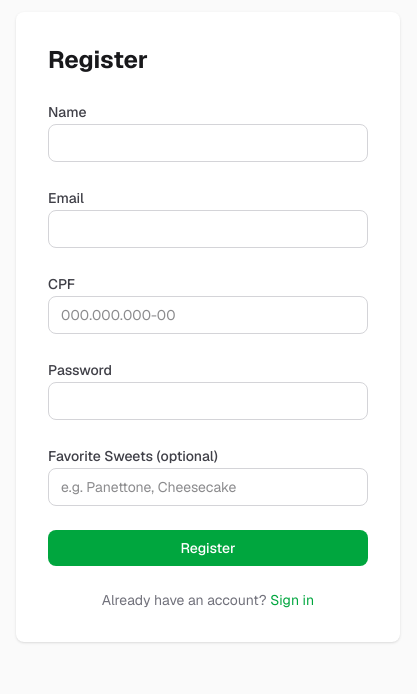
Test: RegisterPage › shows API error on failed registration
Type "John Doe" into the field labelled "Name" at {"x": 208, "y": 143}, box left=48, top=124, right=368, bottom=162
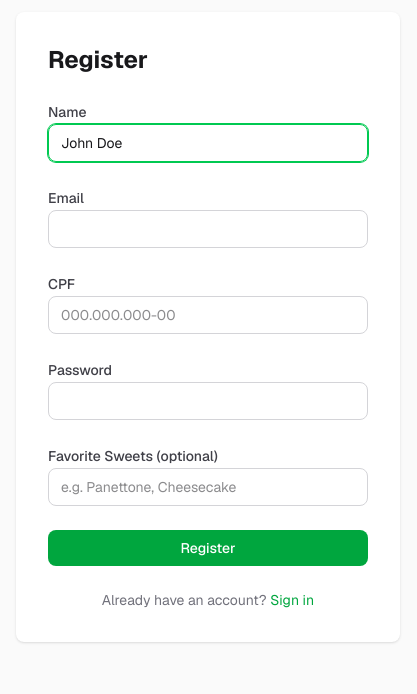
Type "john@test.com" into the field labelled "Email" at {"x": 208, "y": 229}, box left=48, top=210, right=368, bottom=248
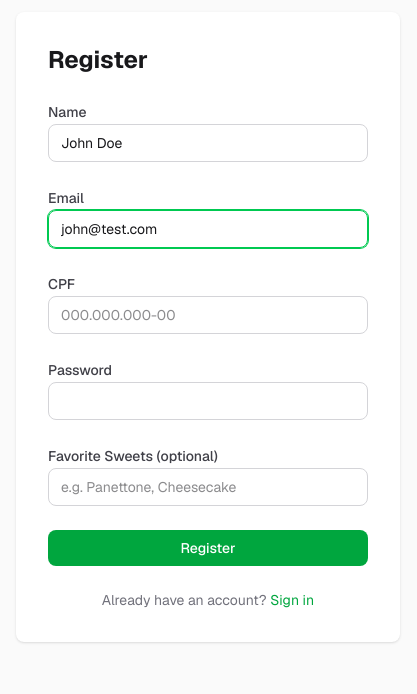
Type "52998224725" into the field labelled "CPF" at {"x": 208, "y": 315}, box left=48, top=296, right=368, bottom=334
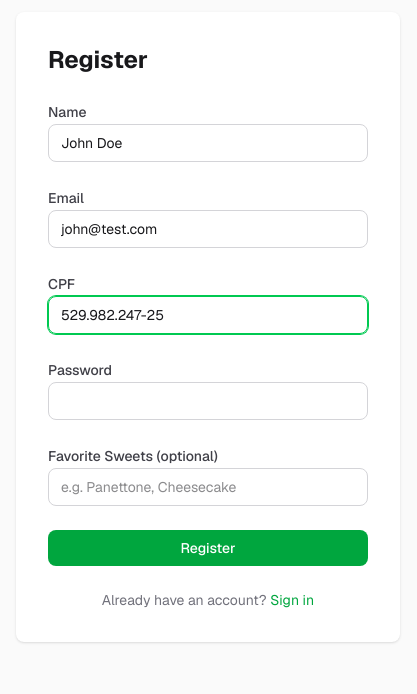
Type "password123" into the password field labelled "Password" at {"x": 208, "y": 401}, box left=48, top=382, right=368, bottom=420
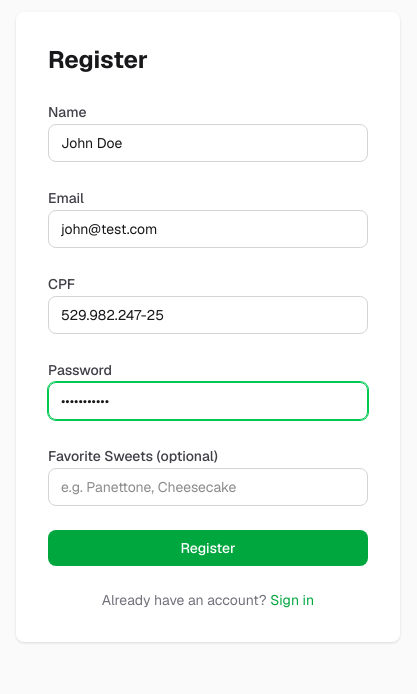
Click the button "Register" at {"x": 208, "y": 548}, box left=48, top=530, right=368, bottom=566
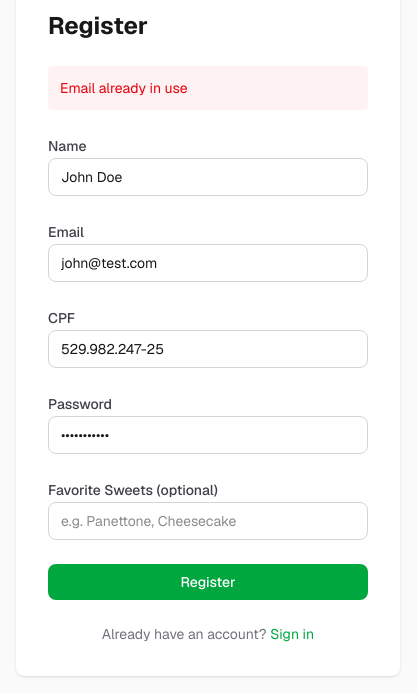
Check: the text "Email already in use" is shown, box left=48, top=66, right=368, bottom=110
